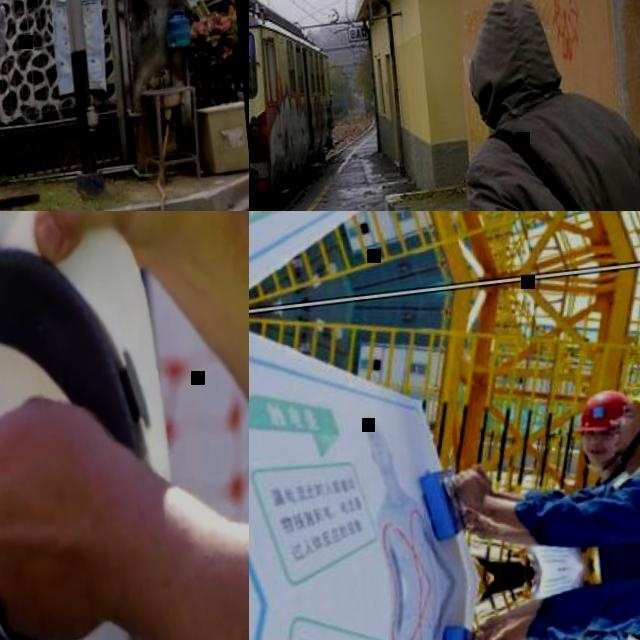Hardhat: (0, 211, 199, 640), (573, 390, 633, 432)
NO-Hardhat: (459, 0, 551, 79)
NO-Mask: (614, 418, 640, 452), (583, 441, 616, 465)
NO-Safety Vest: (471, 86, 640, 211), (603, 466, 640, 578), (606, 538, 640, 640)
Person: (0, 211, 249, 640), (447, 0, 640, 211), (444, 367, 640, 559), (451, 390, 640, 553), (449, 552, 640, 640), (0, 0, 62, 211), (471, 568, 640, 640)
